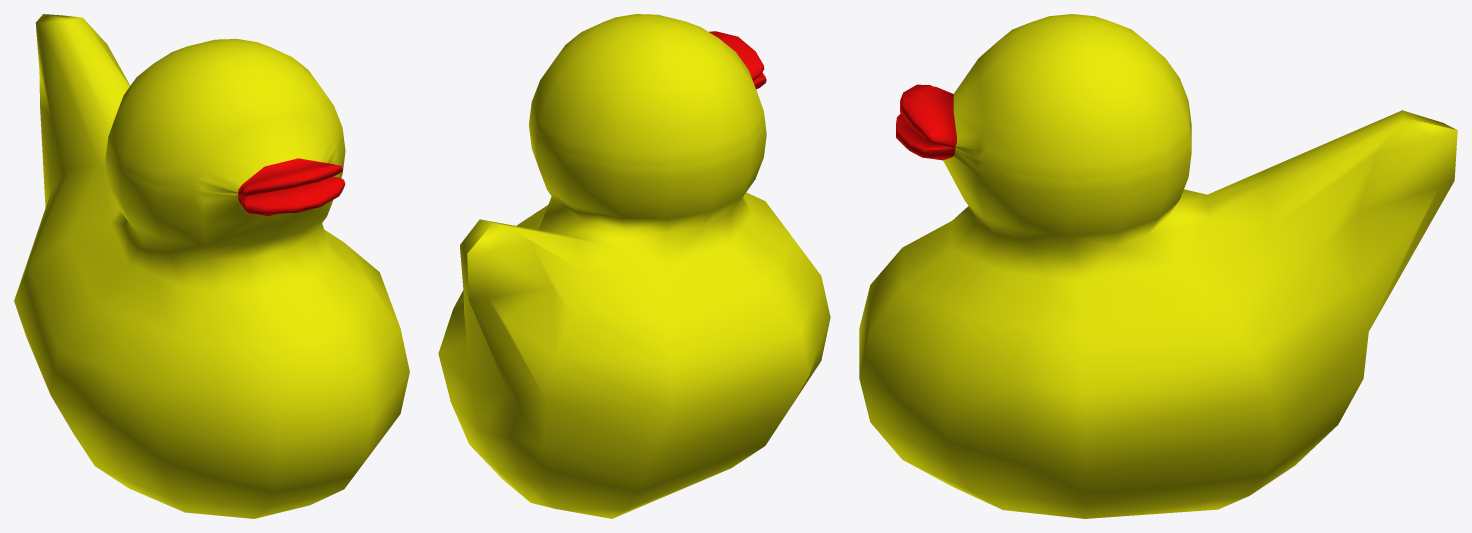
Rendered from PatitoGoma.fbx.
3 renders of one model, left to right at view 1: azimuth 30°, elevation 25°; view 2: azimuth 150°, elevation 25°; view 3: azimuth 270°, elevation 25°, orthographic. The views are drawn at different scales.
Parts seen in each view (by area): view 1: pato2; view 2: pato2; view 3: pato2.
Boxes of the visible parts, x1,y1,x2,y2 form: pato2: (14,14,409,518); pato2: (438,14,830,518); pato2: (859,14,1457,518).
Bounding box in the file's own units: 24.64 × 31.17 × 35.78.
